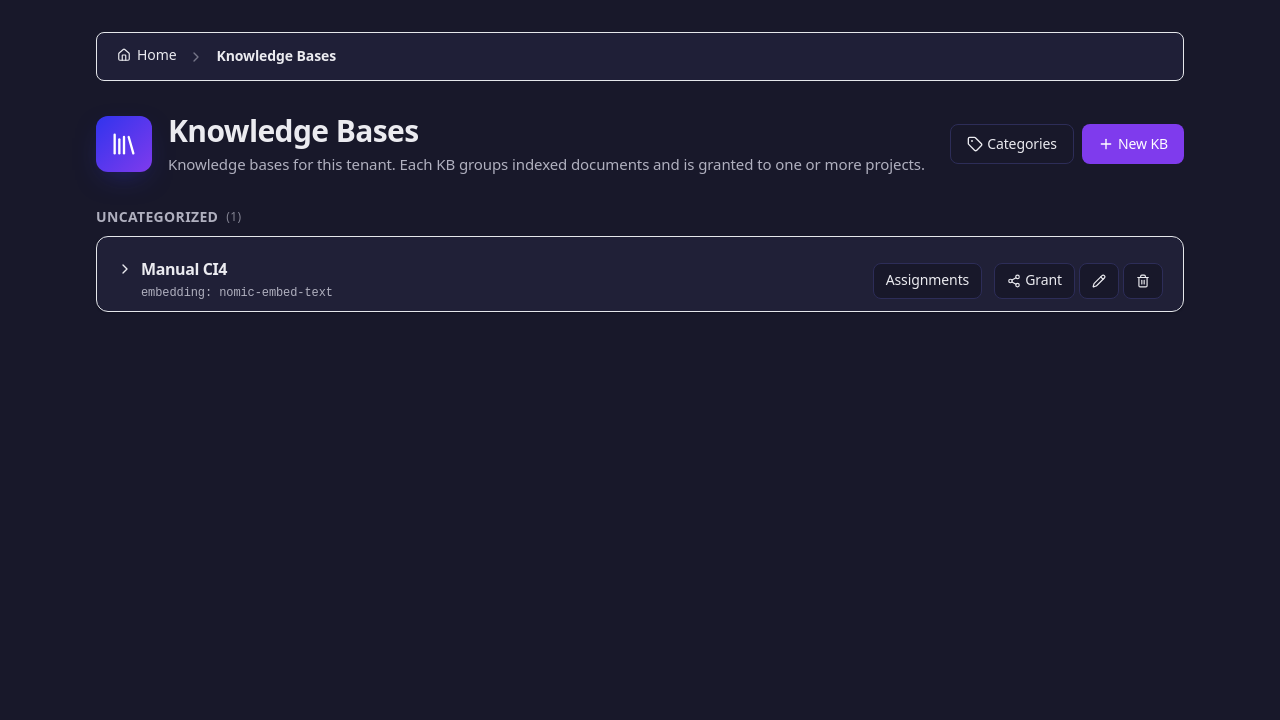
it: knowledge-bases en inglés › traduce el diálogo de edición, incluido el aviso del modelo de embedding
This screenshot has width=1280, height=720.
Step 1. Click the button with test id "kb-edit-kb-1" → (1099,281), box [1079, 263, 1119, 299]
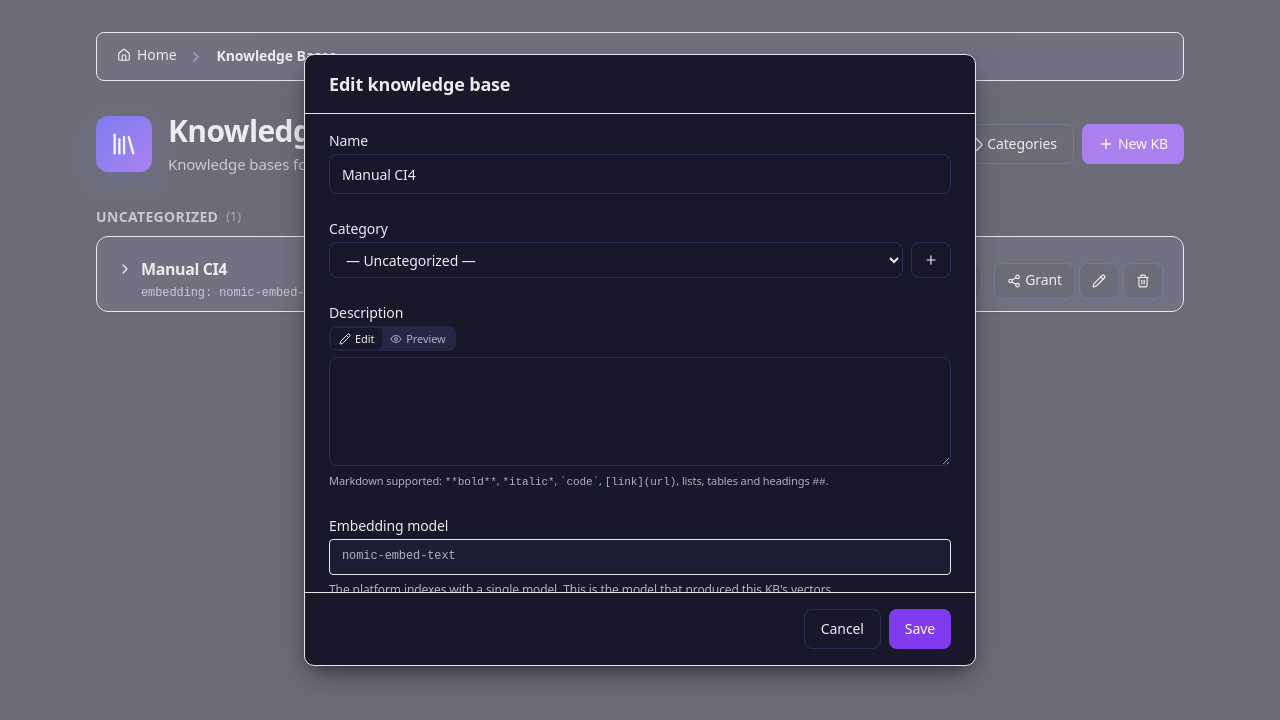
Expected: the field with test id "kb-edit-name" is shown, [329, 154, 951, 194]
Expected: the heading "Edit knowledge base" is shown, [329, 72, 510, 96]
Expected: the text "Embedding model" is shown, [329, 516, 448, 535]
